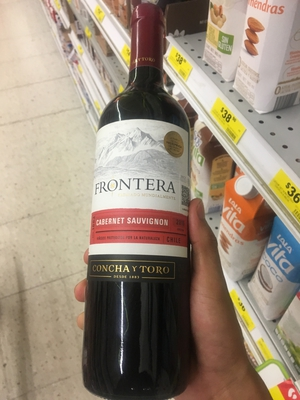frontera cabernet sauvignon: (73, 19, 220, 386)
